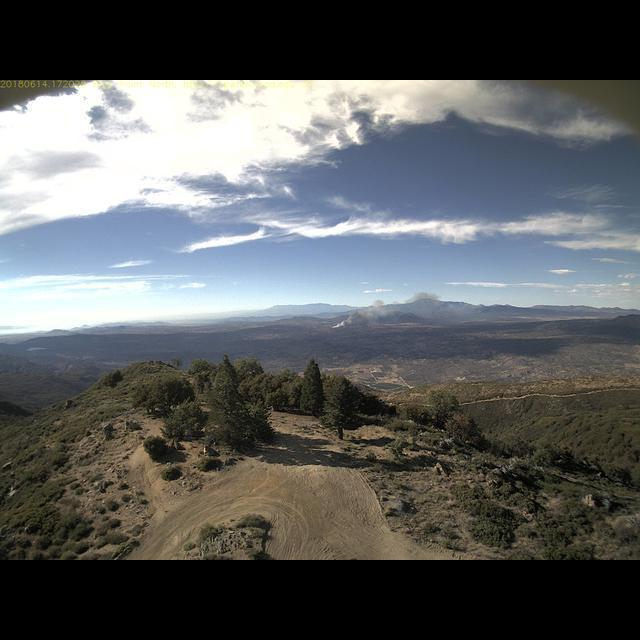Smoke: (326, 285, 442, 334)
